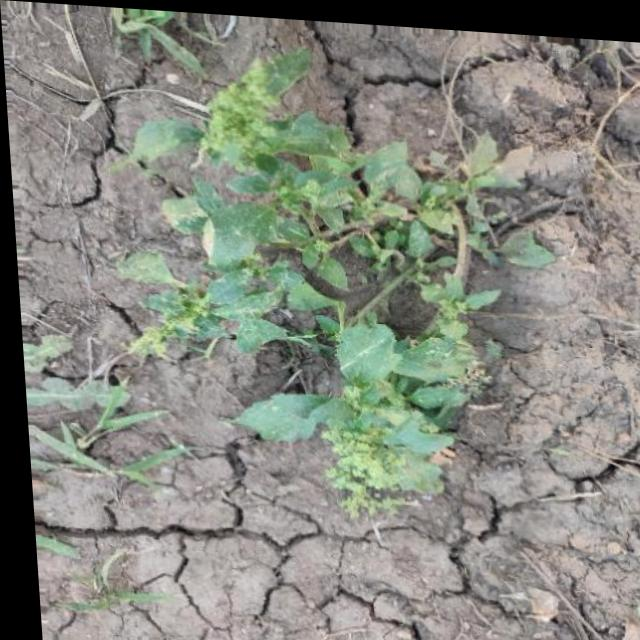weed: (128, 87, 575, 536)
